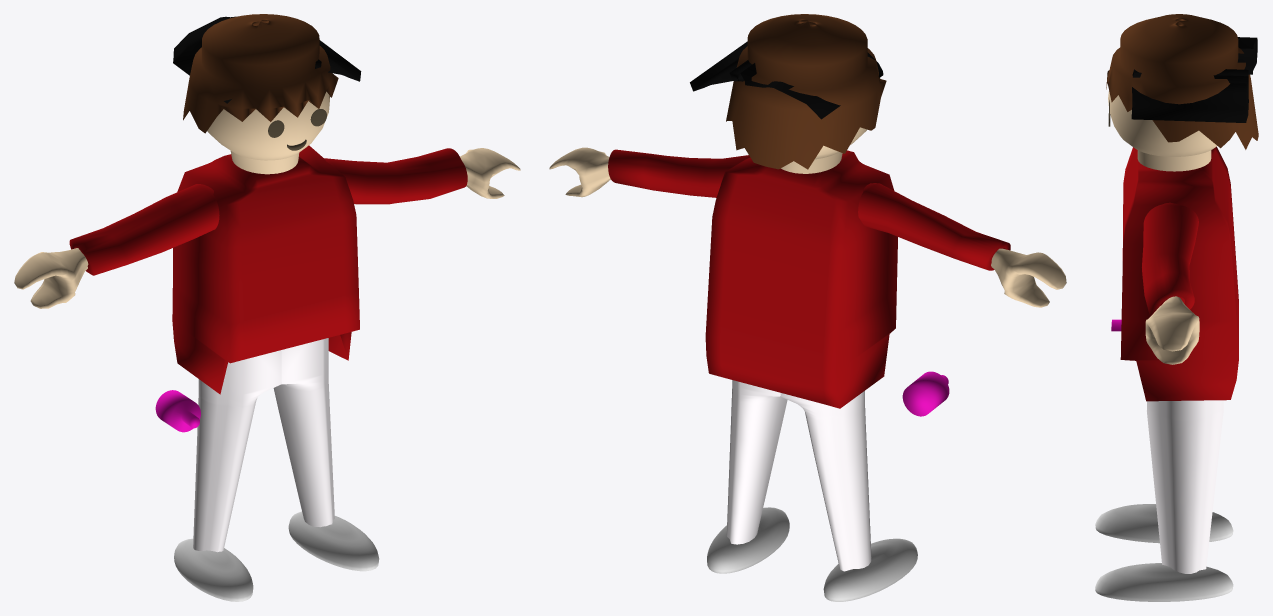
The model's file is playmobil.gltf.
The picture shows the model from 3 angles, left to right: view 1: azimuth 30°, elevation 25°; view 2: azimuth 150°, elevation 25°; view 3: azimuth 270°, elevation 25°; orthographic projection. The views are drawn at different scales.
Parts seen in each view (by area): view 1: Node1, Node4, Node2, Node3; view 2: Node1, Node4, Node3, Node2; view 3: Node1, Node3, Node2.
Part boxes in pixels (x1=…): Node1: x1=14, y1=14, x2=520, y2=601; Node4: x1=155, y1=390, x2=200, y2=432; Node2: x1=173, y1=16, x2=236, y2=103; Node3: x1=315, y1=40, x2=361, y2=81; Node1: x1=549, y1=14, x2=1066, y2=601; Node4: x1=902, y1=371, x2=949, y2=416; Node3: x1=690, y1=41, x2=751, y2=91; Node2: x1=740, y1=52, x2=883, y2=119; Node1: x1=1095, y1=14, x2=1258, y2=601; Node3: x1=1131, y1=69, x2=1248, y2=122; Node2: x1=1237, y1=37, x2=1257, y2=74.
Bounding box in the file's own units: 2.02 × 2.07 × 0.5728.
